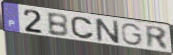2: (23, 9, 45, 36)
B: (45, 12, 70, 38)
C: (70, 16, 96, 41)
G: (120, 23, 144, 47)
N: (93, 17, 121, 45)
R: (144, 24, 171, 51)
